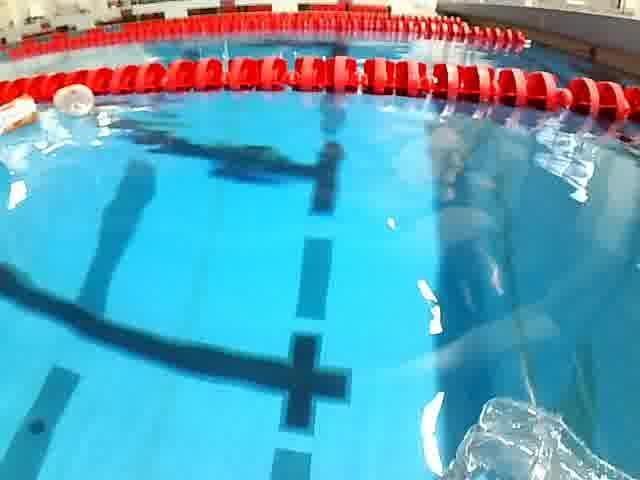Bottle: (428, 388, 640, 480), (45, 79, 101, 130), (0, 92, 44, 153)
